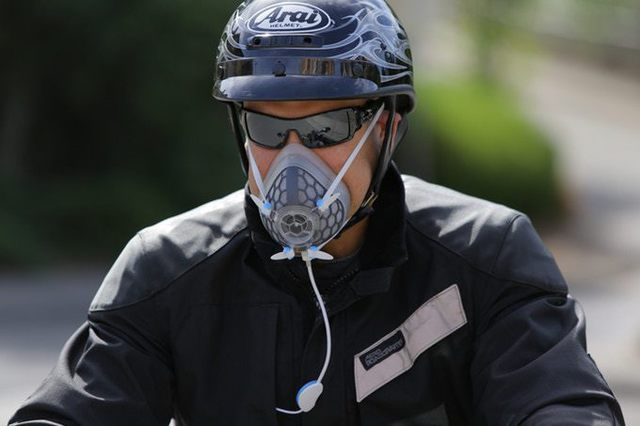mask: (261, 155, 349, 250)
